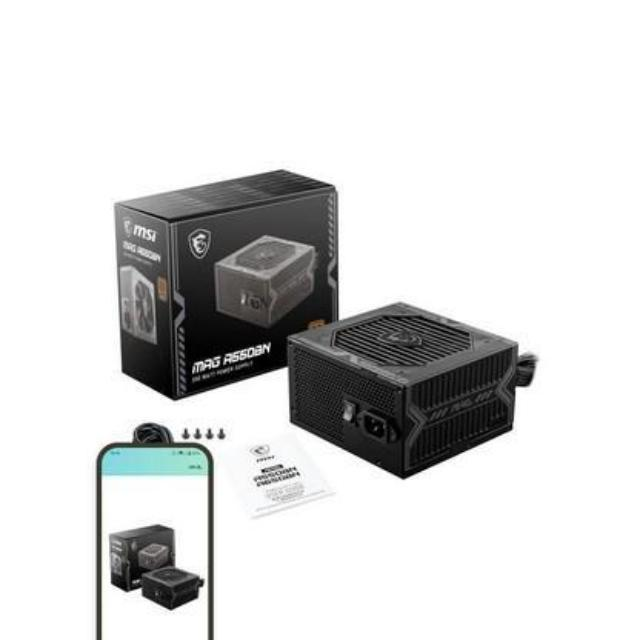PSU: (274, 288, 536, 490)
